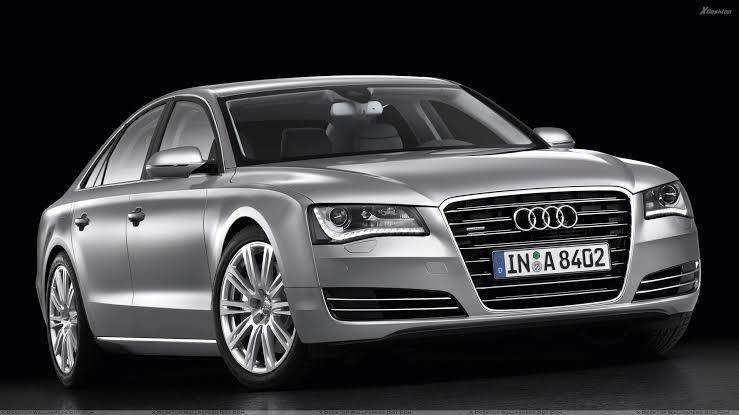audi: (17, 73, 706, 393)
